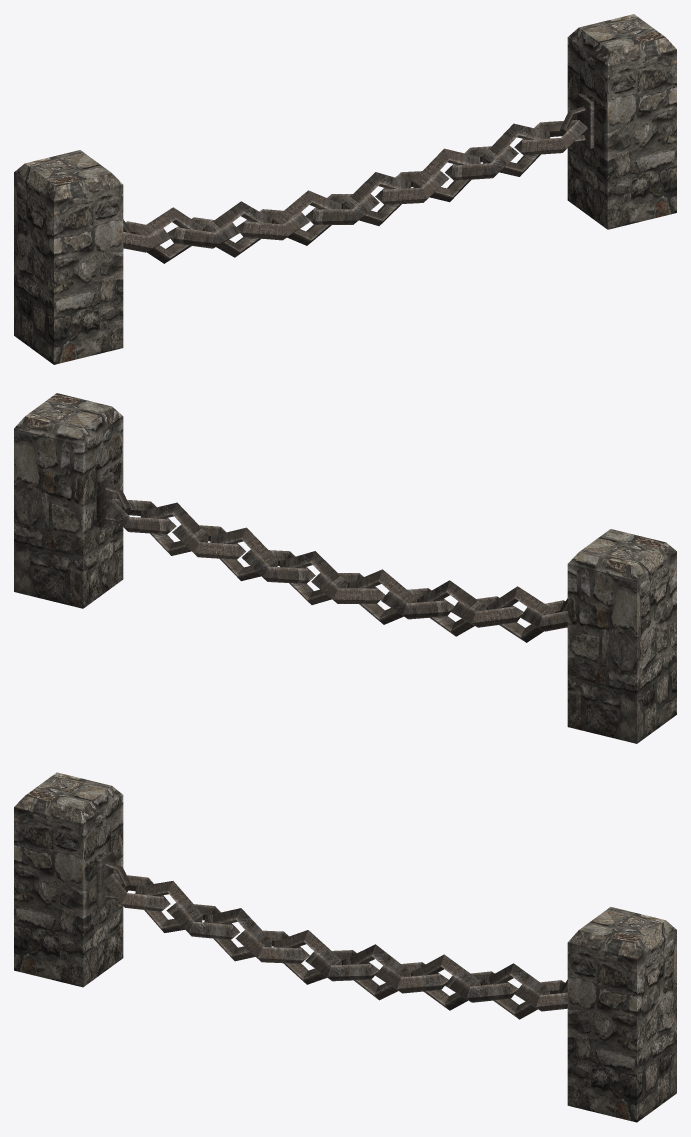
The model's file is ChainMediumFence.dae.
3 views of the same model, one above another, from view 1: azimuth 30°, elevation 25°; view 2: azimuth 150°, elevation 25°; view 3: azimuth 330°, elevation 25° (orthographic).
Visible parts, largest first — view 1: chainMeduimFence; view 2: chainMeduimFence; view 3: chainMeduimFence.
Part boxes in pixels (x1,y1,x2,y2): chainMeduimFence: (14, 14, 676, 364); chainMeduimFence: (14, 393, 676, 743); chainMeduimFence: (14, 772, 676, 1122).
Bounding box in the file's own units: 4 × 1.07 × 0.4444.
1 material, 1 textured.
